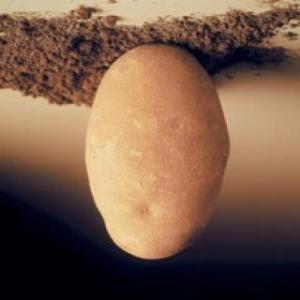potato: (87, 44, 229, 258)
